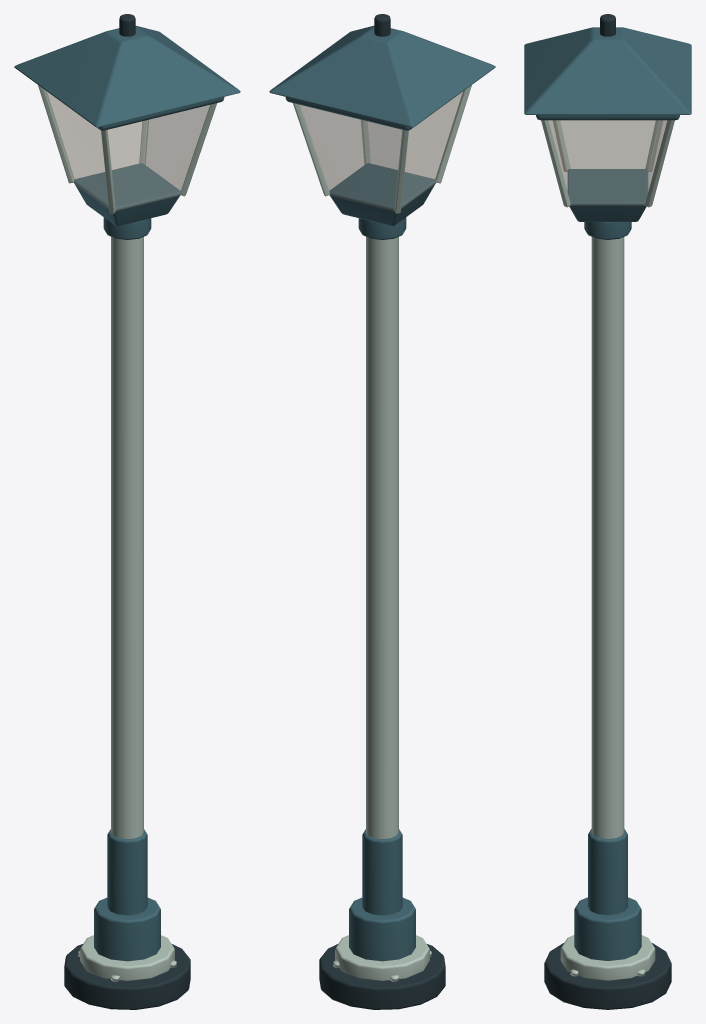
The model's file is Street Light.fbx.
3 views of the same model, side by side, from view 1: azimuth 30°, elevation 25°; view 2: azimuth 150°, elevation 25°; view 3: azimuth 270°, elevation 25° (orthographic).
Visible parts, largest first — view 1: LightPost__Canopy_Teal, LightPost__Frame_Sage, LightPost__Lamp_Unlit_Insert, LightPost__Metal_Charcoal; view 2: LightPost__Canopy_Teal, LightPost__Frame_Sage, LightPost__Lamp_Unlit_Insert, LightPost__Metal_Charcoal; view 3: LightPost__Canopy_Teal, LightPost__Frame_Sage, LightPost__Lamp_Unlit_Insert, LightPost__Metal_Charcoal.
Boxes of the visible parts, bbox=[...] form: LightPost__Canopy_Teal: bbox=[14, 25, 240, 961]; LightPost__Frame_Sage: bbox=[38, 85, 216, 981]; LightPost__Lamp_Unlit_Insert: bbox=[45, 90, 209, 210]; LightPost__Metal_Charcoal: bbox=[64, 14, 190, 1009]; LightPost__Canopy_Teal: bbox=[269, 25, 495, 961]; LightPost__Frame_Sage: bbox=[293, 85, 471, 981]; LightPost__Lamp_Unlit_Insert: bbox=[300, 90, 464, 210]; LightPost__Metal_Charcoal: bbox=[319, 14, 445, 1009]; LightPost__Canopy_Teal: bbox=[524, 27, 691, 960]; LightPost__Frame_Sage: bbox=[541, 120, 674, 980]; LightPost__Lamp_Unlit_Insert: bbox=[549, 120, 666, 205]; LightPost__Metal_Charcoal: bbox=[544, 14, 671, 1009].
Bounding box in the file's own units: 45.96 × 293 × 45.96.
